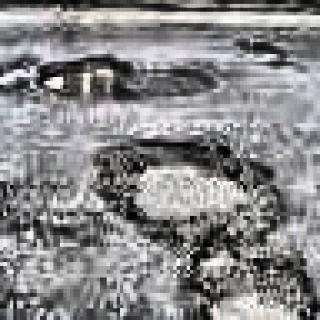pothole: (86, 131, 320, 320), (33, 50, 131, 108)
